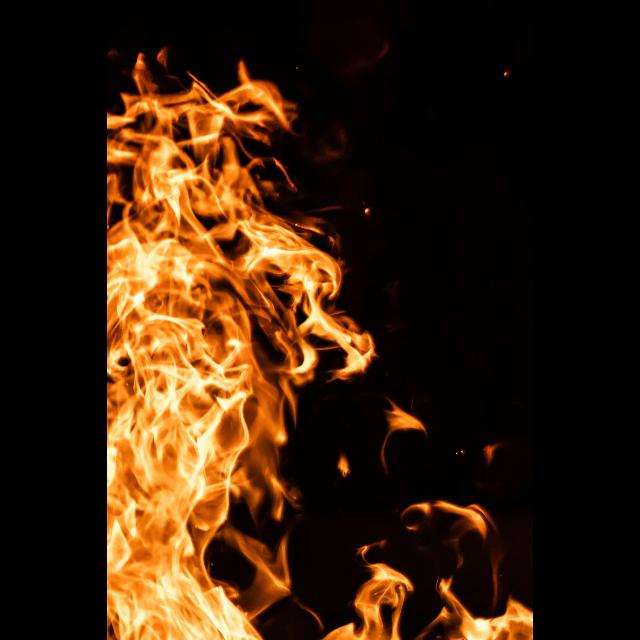fire: (107, 60, 374, 640)
